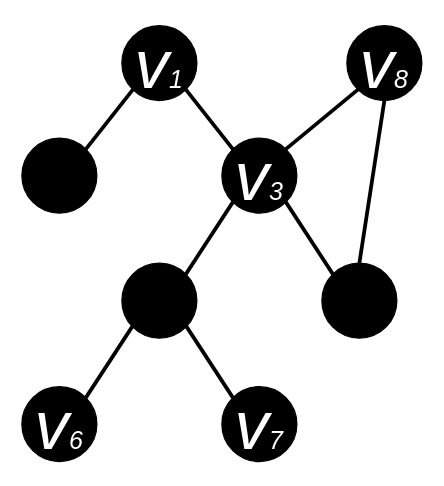
The diagram is 444 pixels wide and 486 high, and some of its shapes have lost their labels. The box of each missing label's shape, as (x1, y1, x2, y2) in pixels:
e v 4: (121, 262, 197, 338)
v 2: (21, 137, 97, 213)
v 5: (321, 262, 397, 338)
